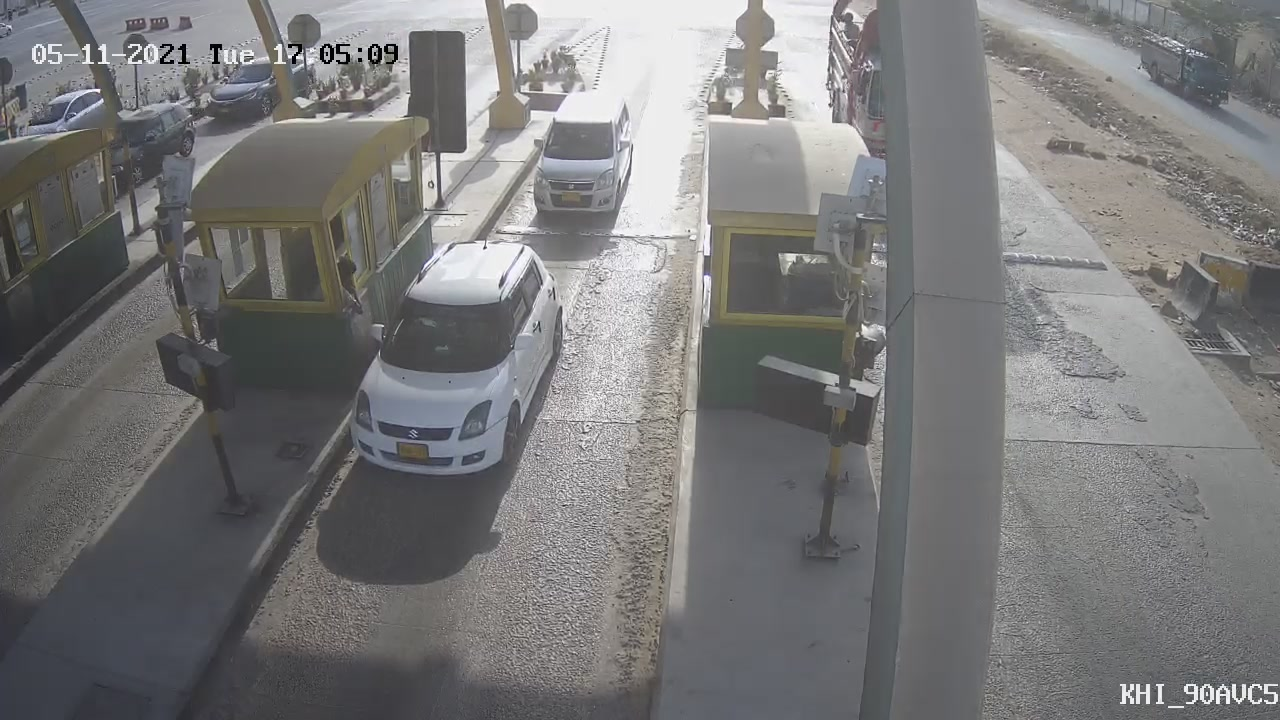F1: (327, 223, 580, 497), (513, 74, 654, 240)
